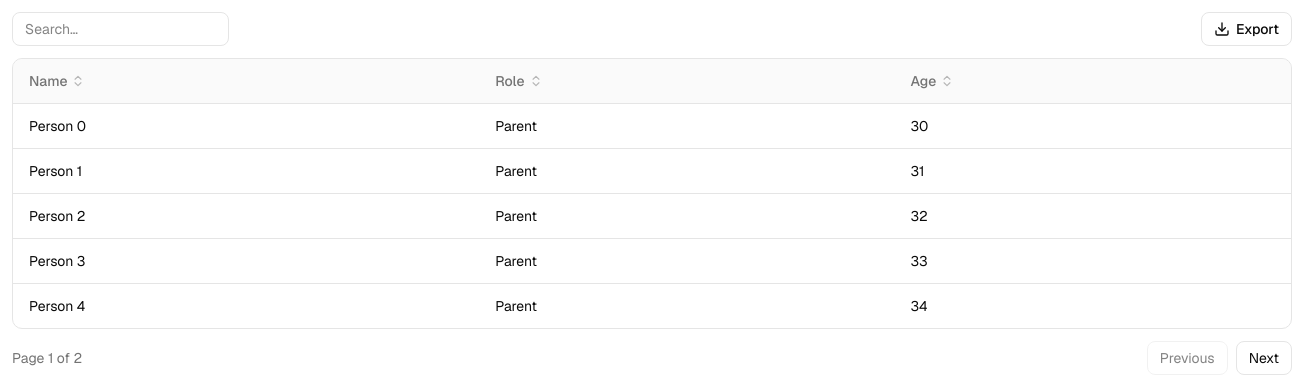
Test case: DataTable › navigates to next page
Check: the text "Page 1 of 2" is shown, box x1=12 y1=348 x2=82 y2=368
Click the button with aria-label "Next page" at [1264, 358], box x1=1236 y1=341 x2=1292 y2=375
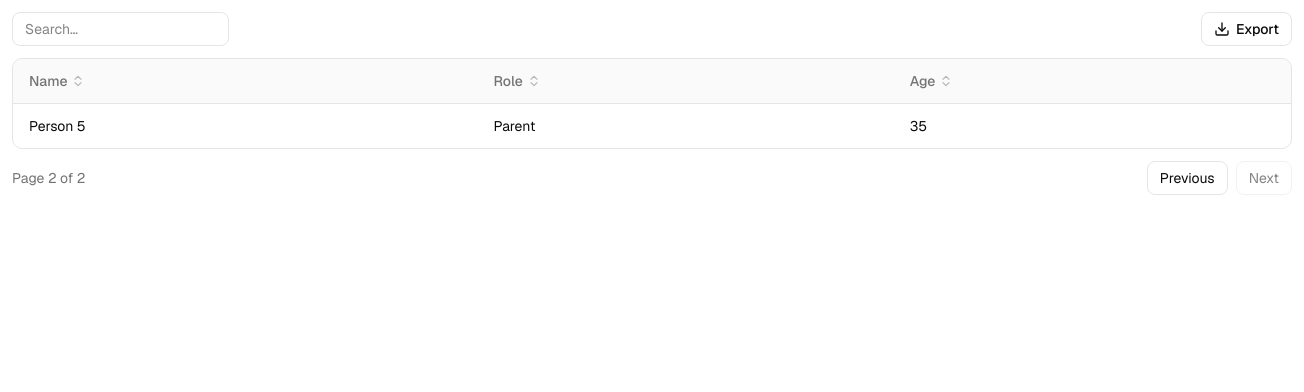
Check: the text "Page 2 of 2" is shown, box x1=12 y1=168 x2=85 y2=188
